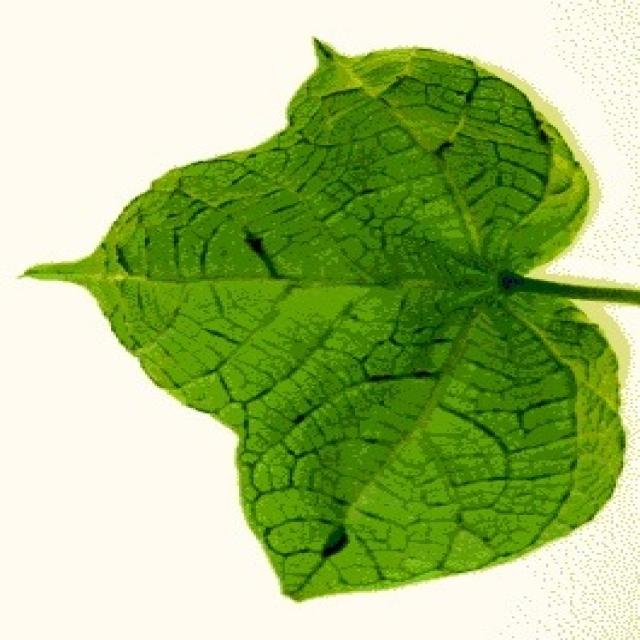Leaf Curl Virus: (204, 160, 490, 368)
